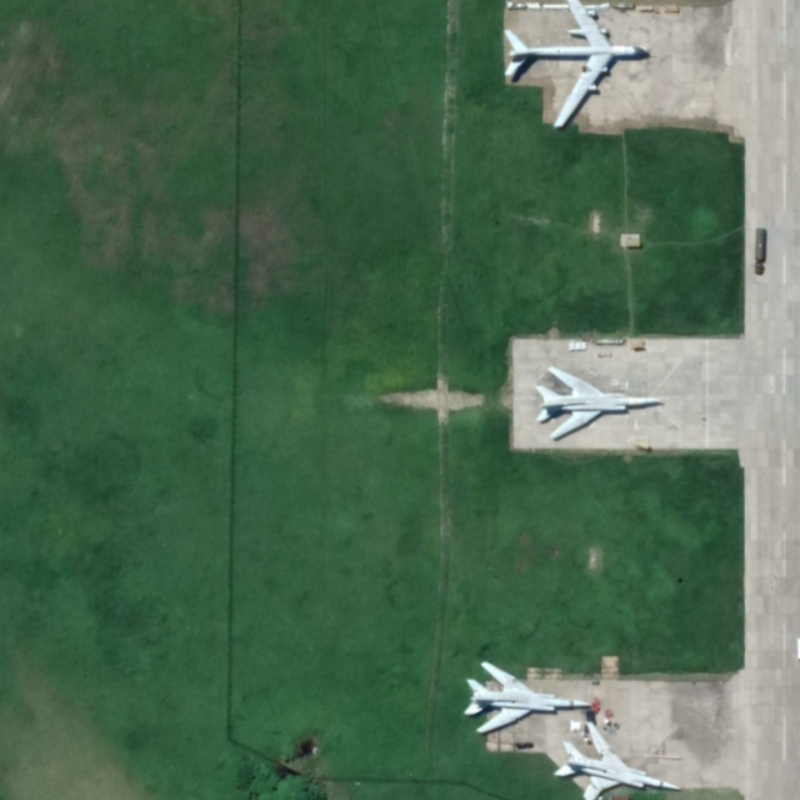A12: (551, 719, 684, 800), (461, 659, 593, 735), (534, 364, 662, 442)
A17: (502, 1, 652, 131)
